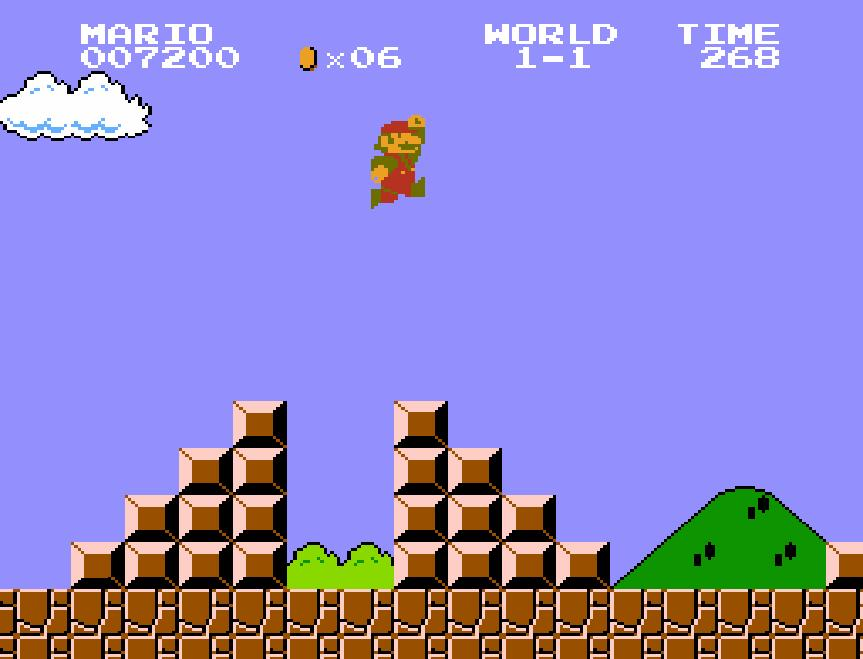big_mario: (368, 112, 426, 210)
